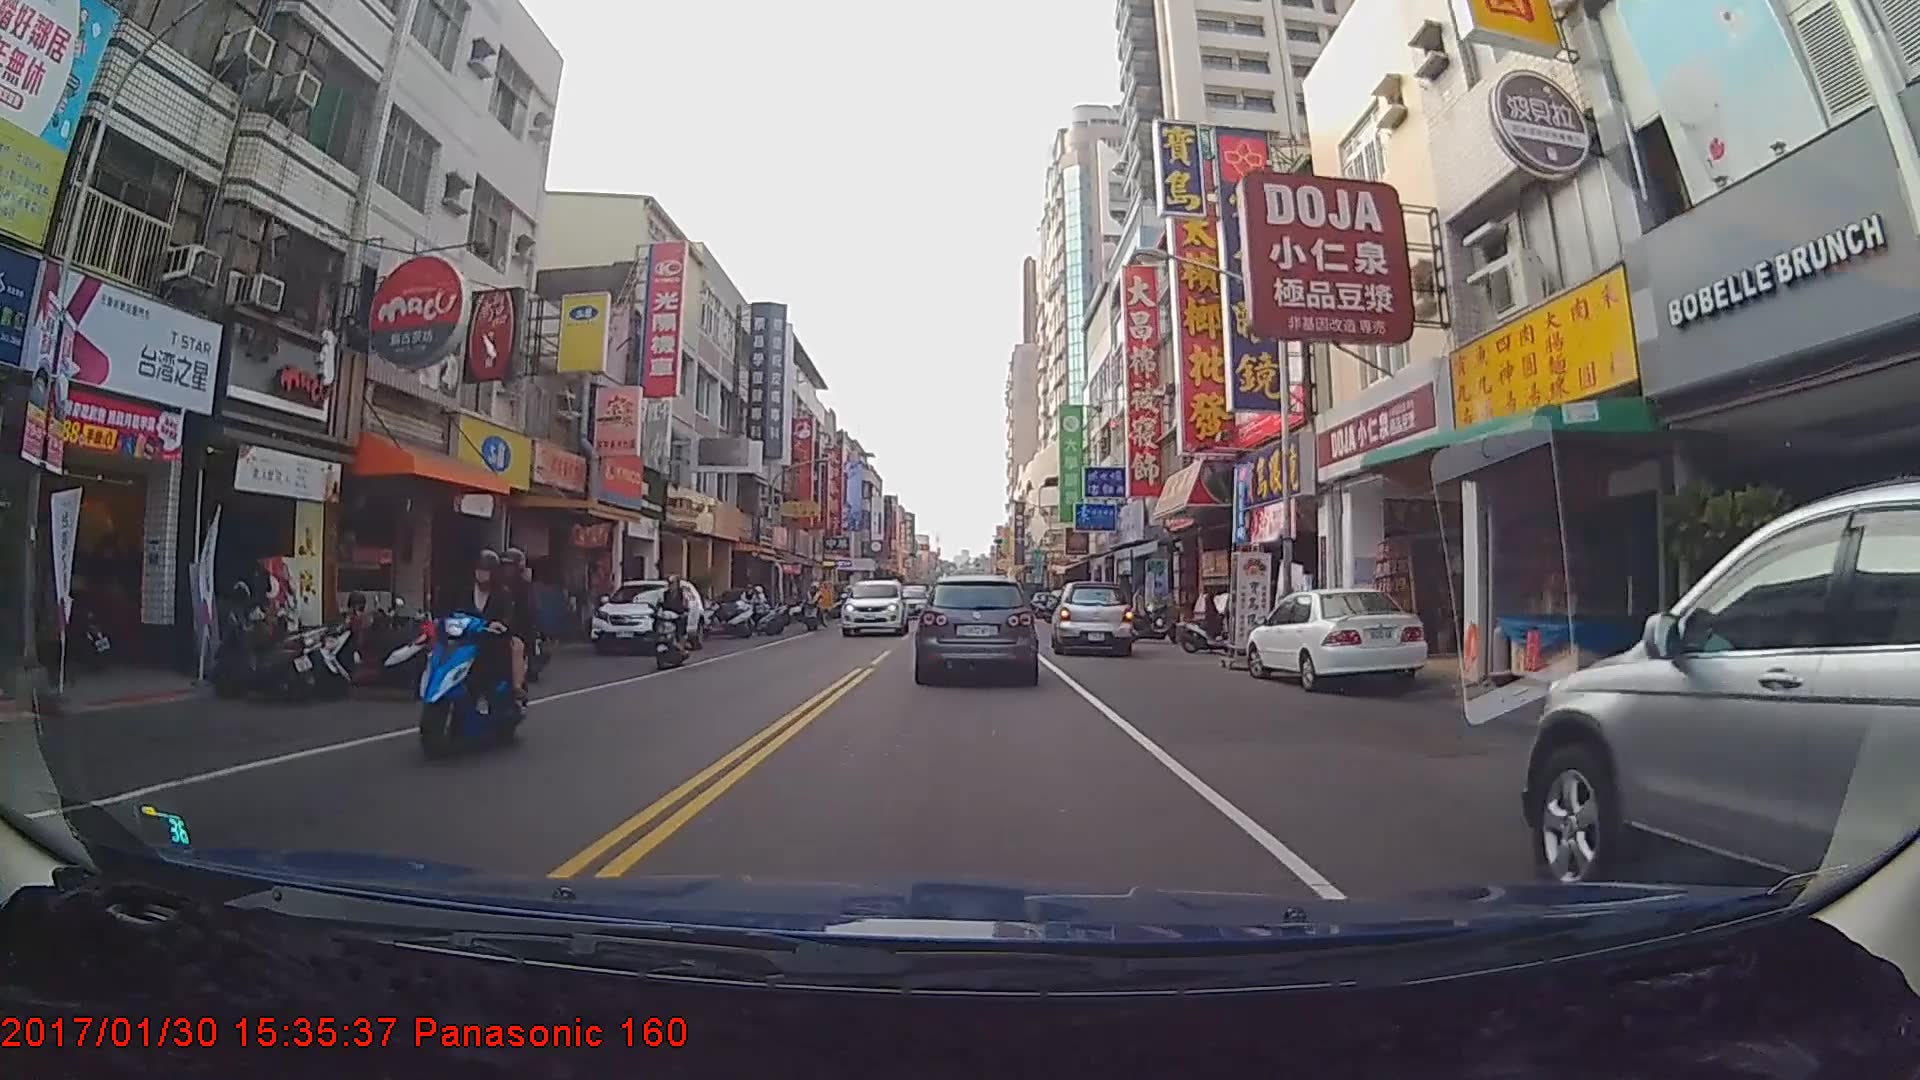rider: (423, 545, 544, 762), (1181, 584, 1249, 655), (652, 570, 697, 667)
vehicle: (1523, 482, 1920, 1013), (1248, 582, 1427, 685), (919, 573, 1037, 681), (588, 577, 705, 654), (1051, 579, 1133, 653), (840, 576, 909, 637)
